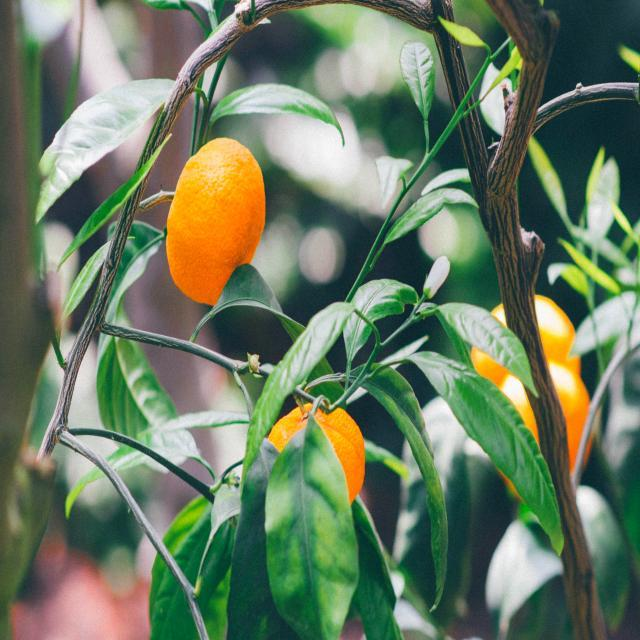Jeruk Sudah Matang: (167, 136, 268, 310), (490, 368, 594, 495), (472, 293, 582, 393), (266, 401, 368, 504)
